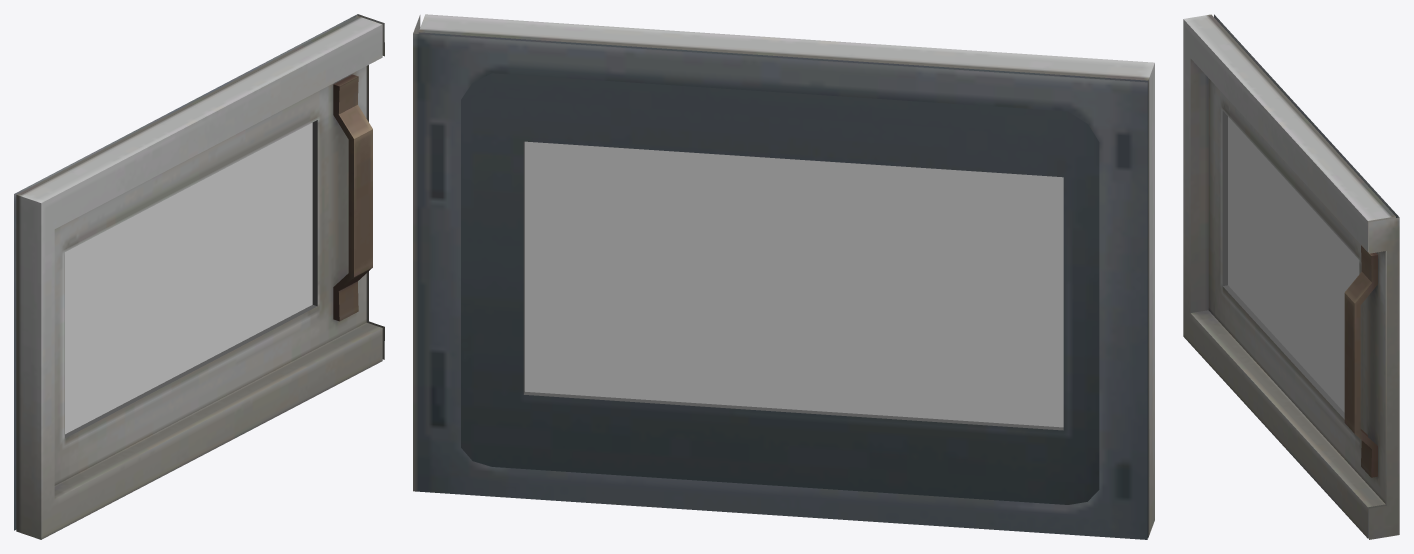
The model's file is microondasPuerta.fbx.
The picture shows the model from 3 angles, left to right: view 1: azimuth 30°, elevation 25°; view 2: azimuth 150°, elevation 25°; view 3: azimuth 270°, elevation 25°; orthographic projection. The views are drawn at different scales.
Parts seen in each view (by area): view 1: MicroondasPuerta; view 2: MicroondasPuerta; view 3: MicroondasPuerta.
Boxes of the visible parts, x1,y1,x2,y2 form: MicroondasPuerta: [14, 14, 384, 539]; MicroondasPuerta: [413, 14, 1154, 539]; MicroondasPuerta: [1183, 14, 1399, 539].
Size of the model in its own units: 45.5 by 32.33 by 19.96.
2 materials, 1 textured.
